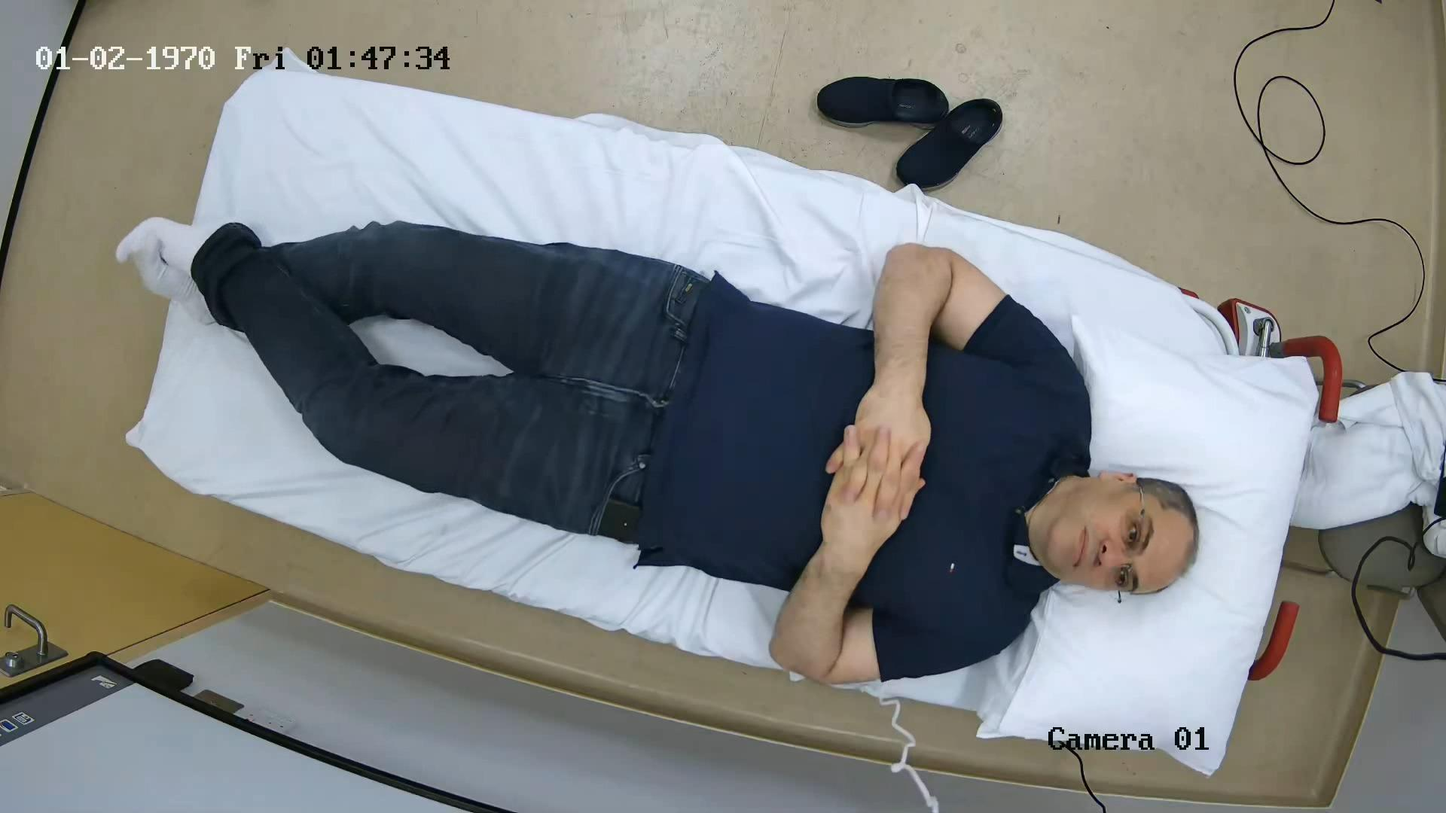bed: (135, 62, 1341, 770)
patient: (160, 222, 1198, 684)
